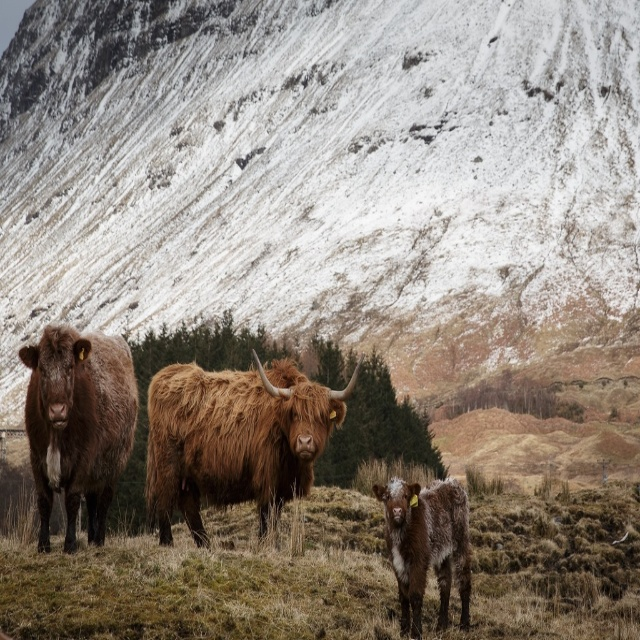Cattle: (143, 348, 365, 547), (18, 320, 140, 555), (372, 476, 472, 640)
